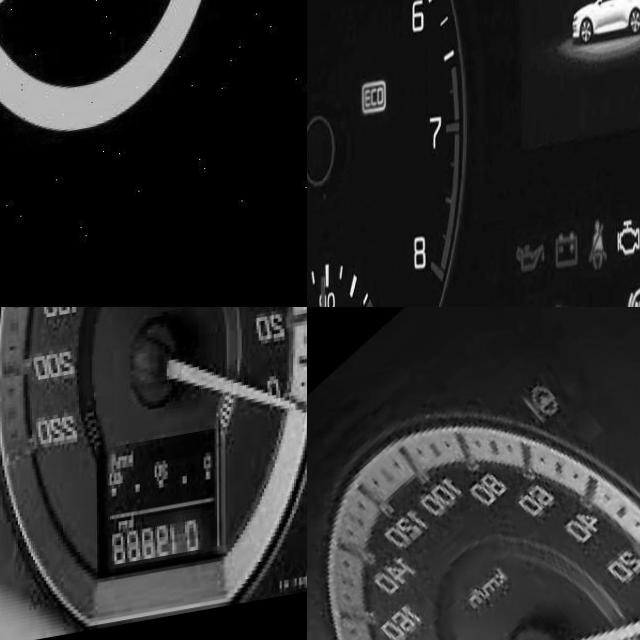Electronic Power Steering: (522, 386, 560, 436)
Electronic Power Steering Warning: (0, 0, 225, 178)
Seat Belt: (586, 228, 606, 285)
